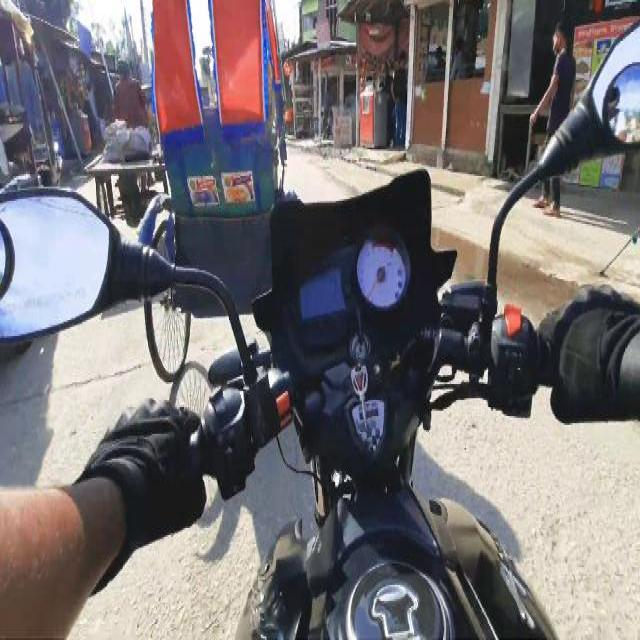motorbike: (7, 180, 639, 638)
rickshaw: (135, 3, 263, 377)
